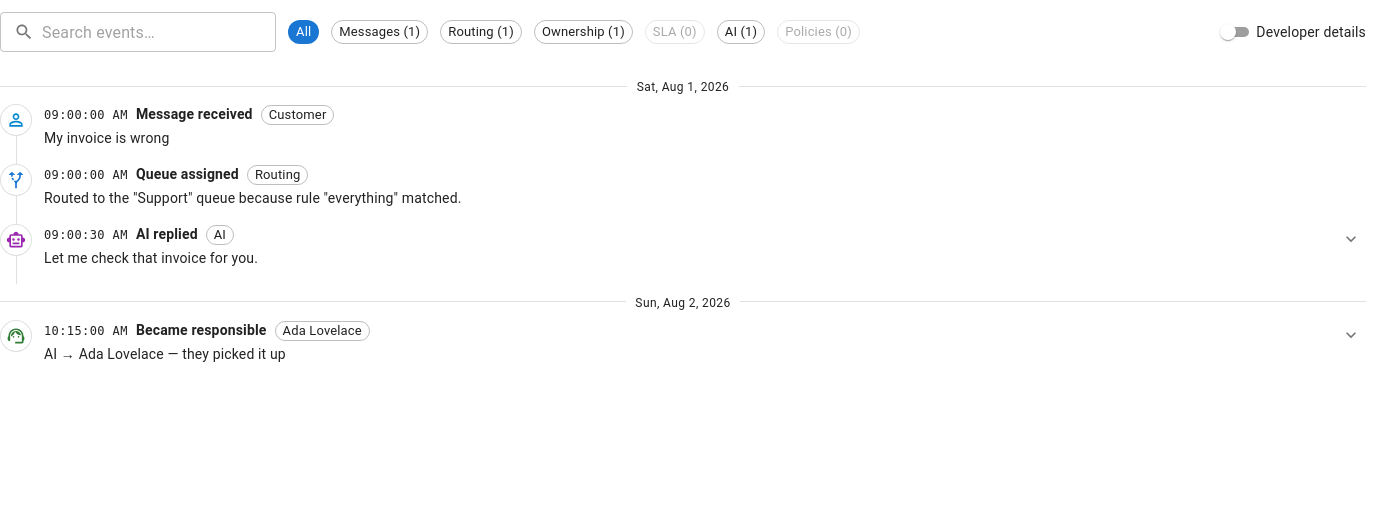
Test case: ConversationTimeline › hides why and impact until an event is expanded
Expected: the text "70% confident" is not shown
Click the button named "show details for AI replied": [1351, 239] box [1336,224,1366,254]
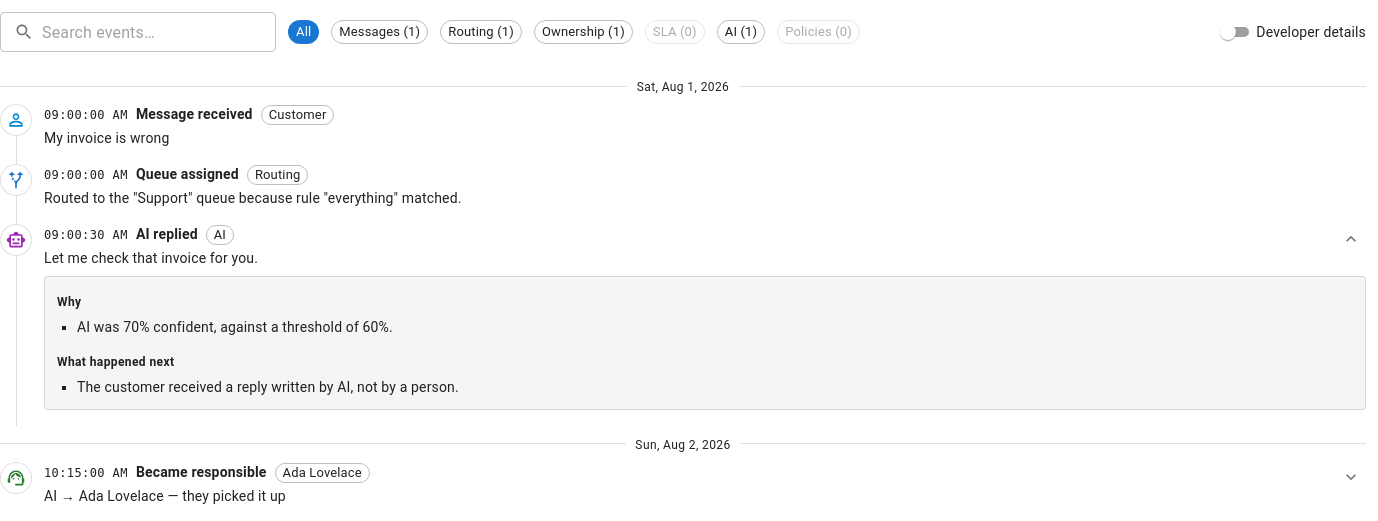
Expected: the list item "AI was 70% confident, against a threshold of 60%." is shown, [77,319,393,335]
Expected: the list item "received a reply written by AI, not by a person" is shown, [77,379,459,395]
